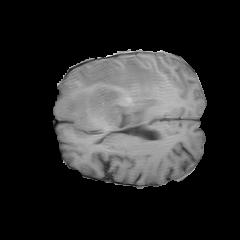glioma: (66, 56, 166, 130)
